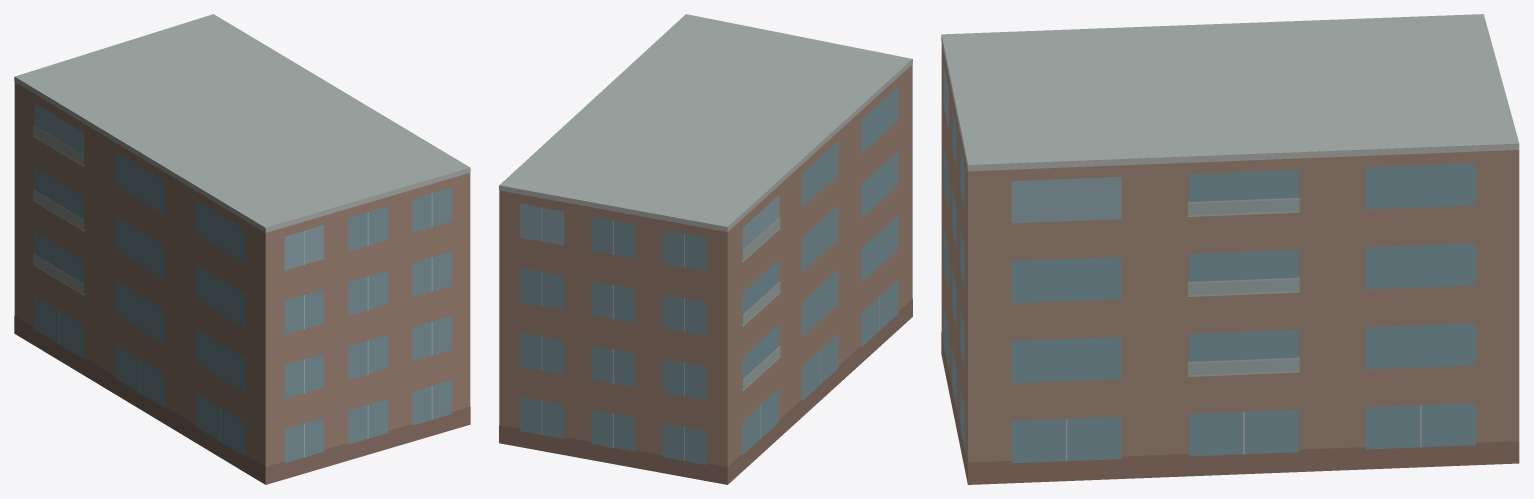
File: survey-upis-32649838.glb
3 views of the same model, side by side, from view 1: azimuth 30°, elevation 25°; view 2: azimuth 150°, elevation 25°; view 3: azimuth 270°, elevation 25° (orthographic). The views are drawn at different scales.
Visible parts, largest first — view 1: survey-upis-32649838.tmp; view 2: survey-upis-32649838.tmp; view 3: survey-upis-32649838.tmp.
Part boxes in pixels (x1,y1,x2,y2): survey-upis-32649838.tmp: [14, 14, 470, 484]; survey-upis-32649838.tmp: [499, 14, 912, 484]; survey-upis-32649838.tmp: [941, 14, 1519, 484].
Size of the model in its own units: 12.57 by 12.4 by 20.32.
